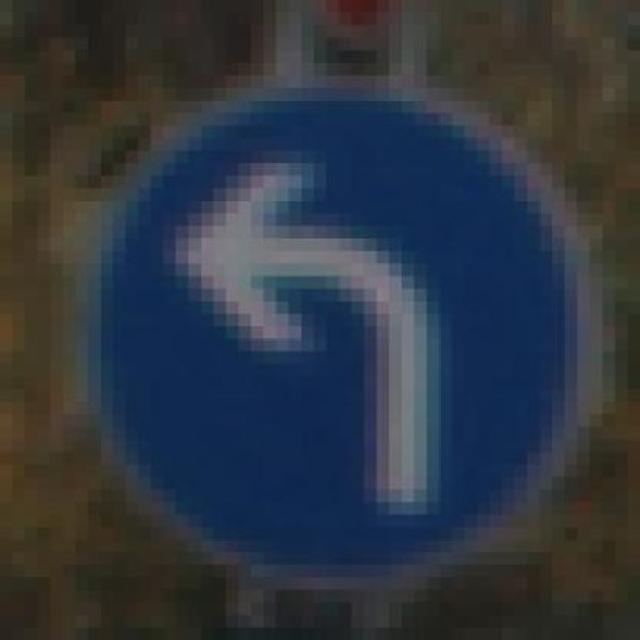Turn left ahead: (50, 62, 602, 578)
